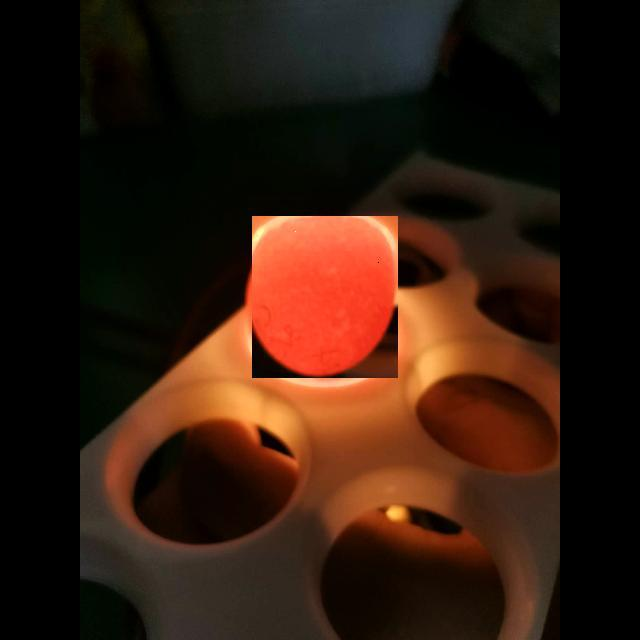Infertile: (252, 216, 398, 378)
